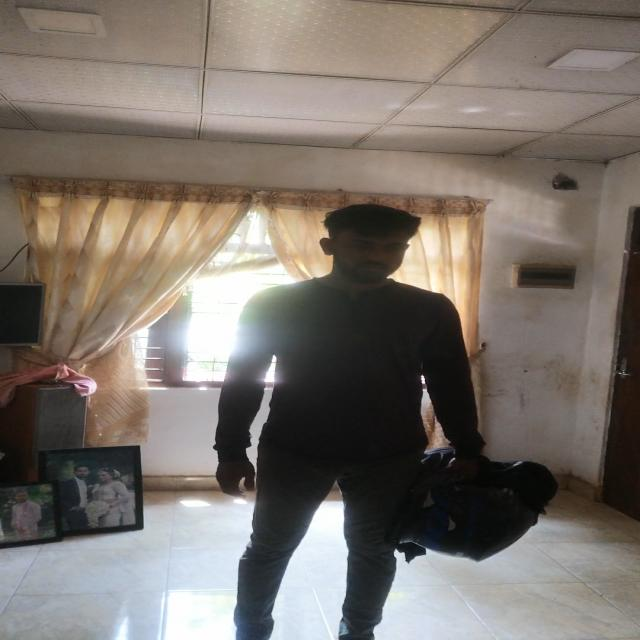Person: (213, 202, 483, 640)
